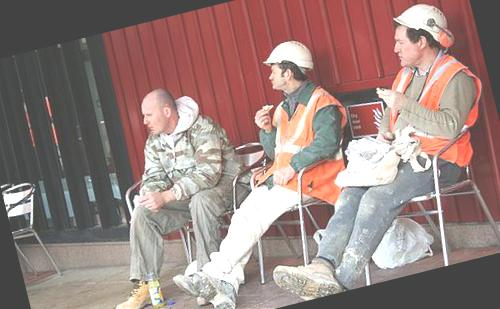helmet: (386, 0, 453, 54), (258, 36, 323, 81)
no_vest: (134, 109, 241, 226)
person: (94, 69, 266, 309), (323, 0, 500, 230), (205, 32, 366, 225)
